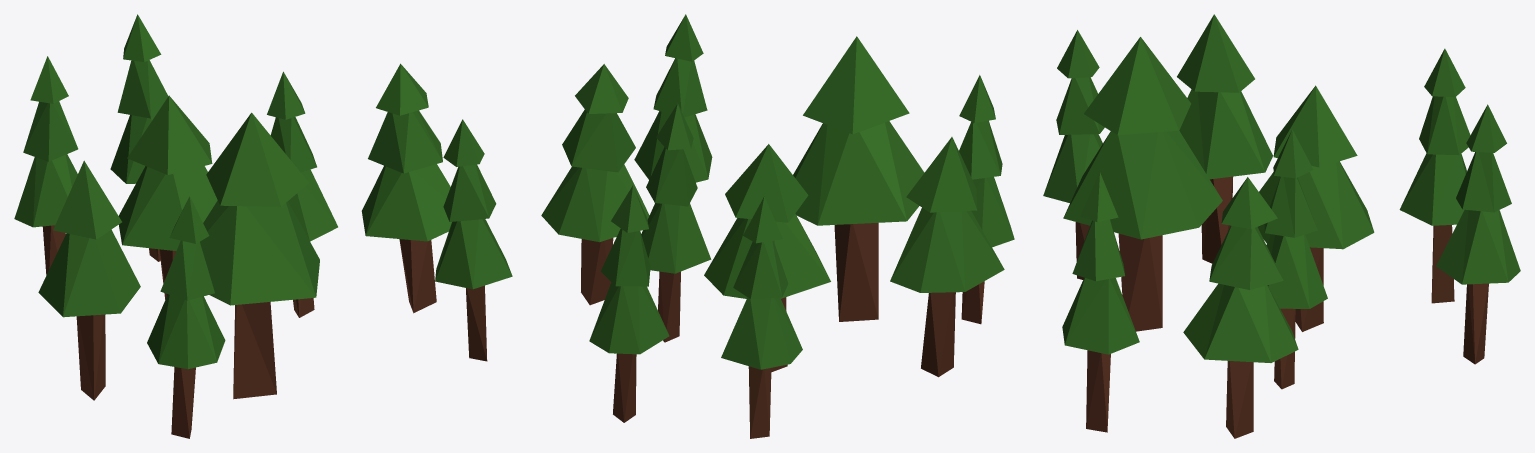
File: Forest7_x2.dae
3 views of the same model, side by side, from view 1: azimuth 30°, elevation 25°; view 2: azimuth 150°, elevation 25°; view 3: azimuth 270°, elevation 25° (orthographic). The views are drawn at different scales.
Visible parts, largest first — view 1: Cylinder_026; view 2: Cylinder_026; view 3: Cylinder_026.
Boxes of the visible parts, x1=… form: Cylinder_026: x1=14, y1=14, x2=512, y2=438; Cylinder_026: x1=541, y1=14, x2=1014, y2=438; Cylinder_026: x1=1043, y1=14, x2=1520, y2=438.
Size of the model in its own units: 1.51 by 1.44 by 0.9619.
